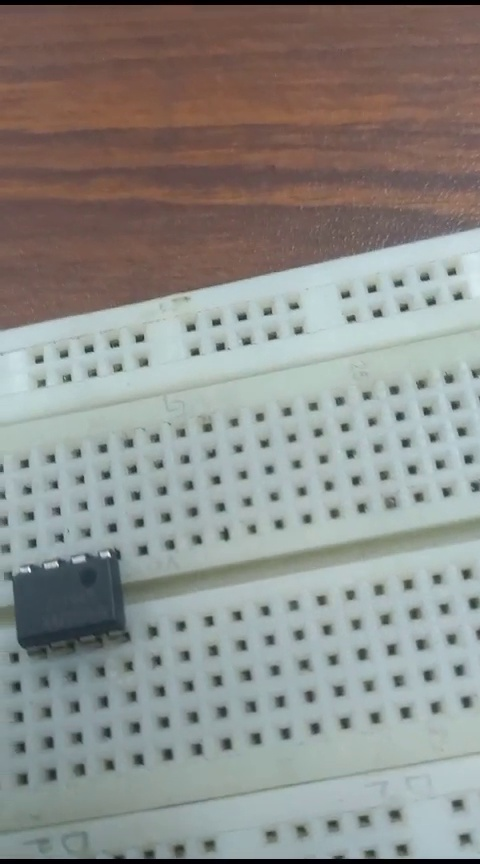IC: (6, 555, 136, 649)
